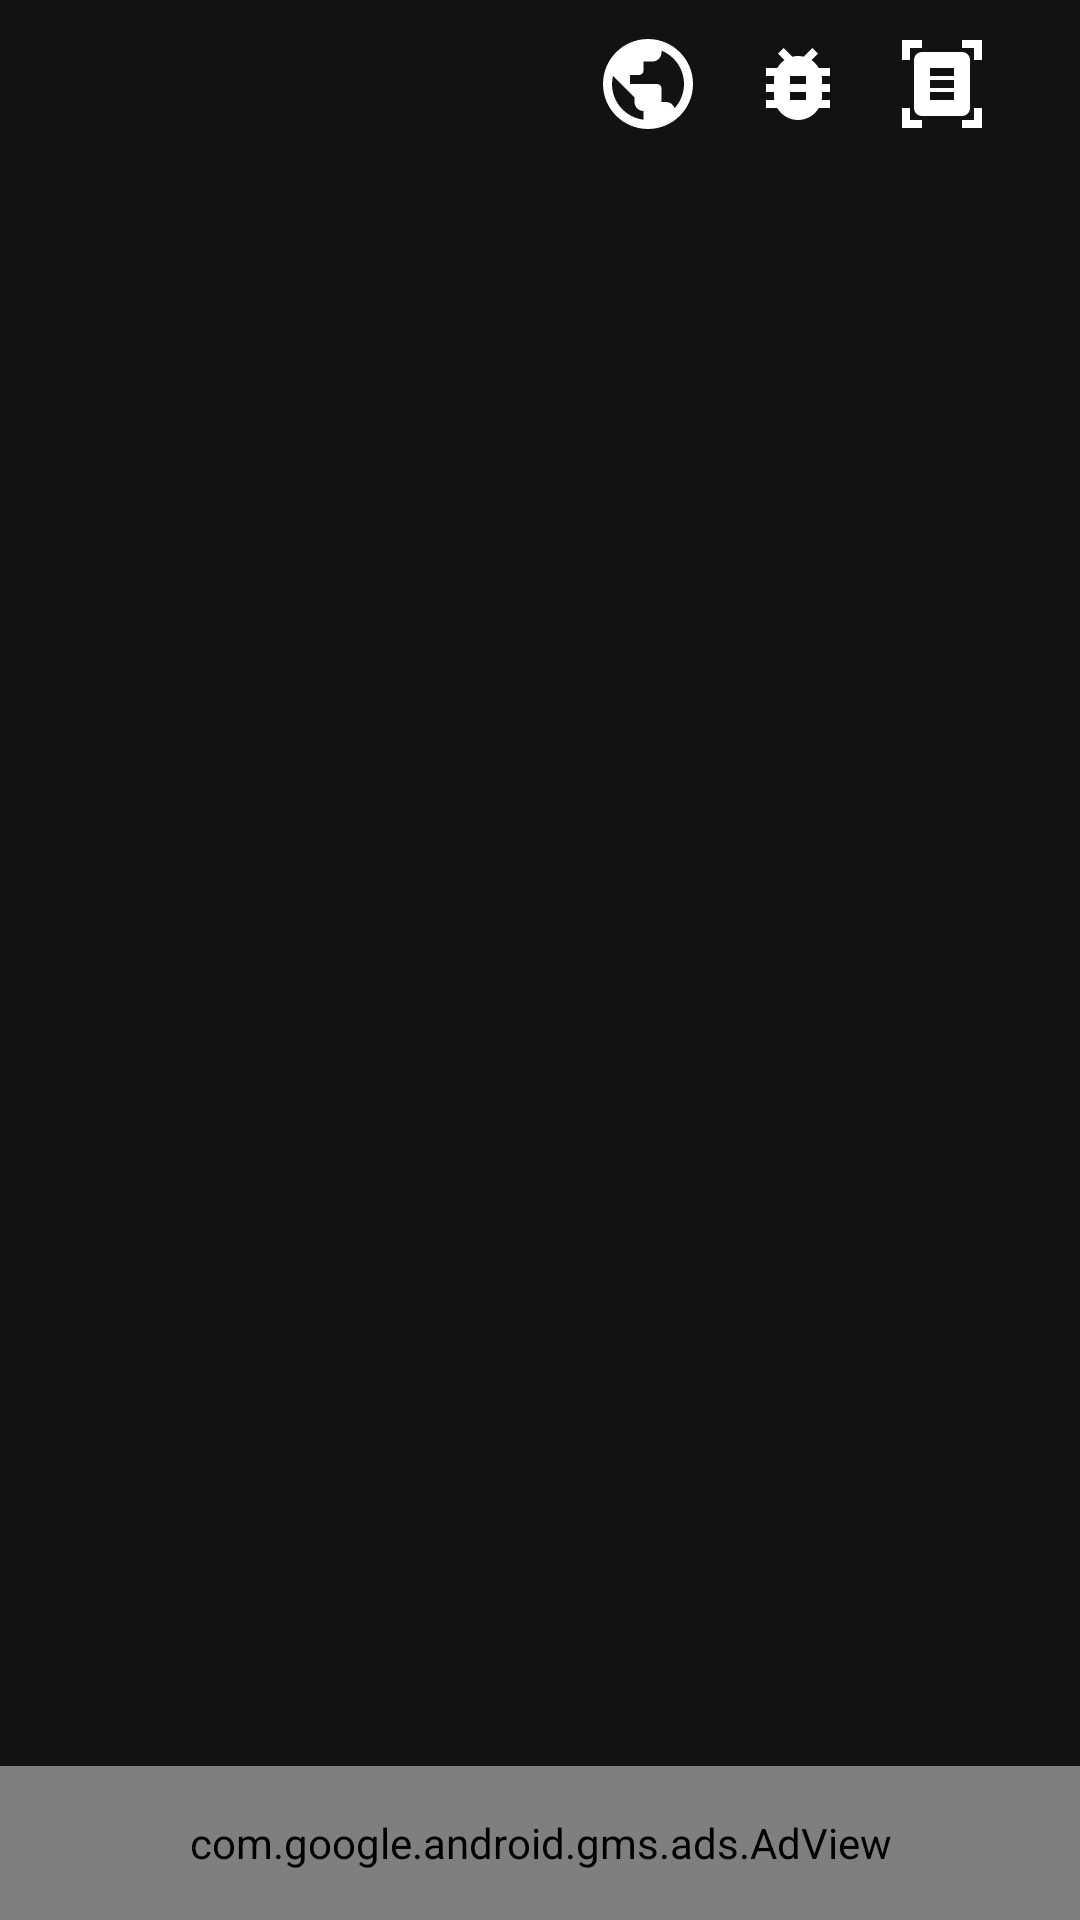

Icons on this 1080 × 1920 Android screen, each with its box as (x1, y1, x2, y2):
bug report: (766, 48, 830, 120)
document scanner: (902, 40, 982, 128)
public: (603, 39, 693, 129)
